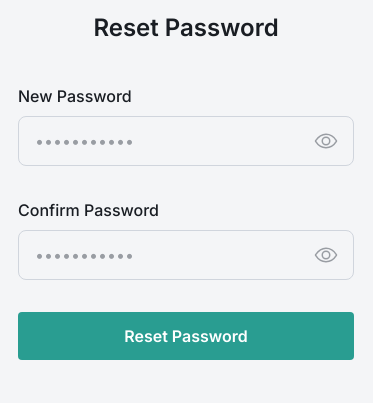
Test: ResetPassword › shows a text error when reset password error includes password
Type "1234" into the password field labelled "New Password" at (186, 141), box x1=18 y1=116 x2=354 y2=166
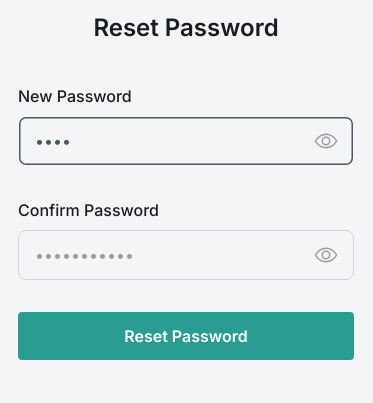
Type "1234" into the password field labelled "Confirm Password" at (186, 255), box x1=18 y1=230 x2=354 y2=280
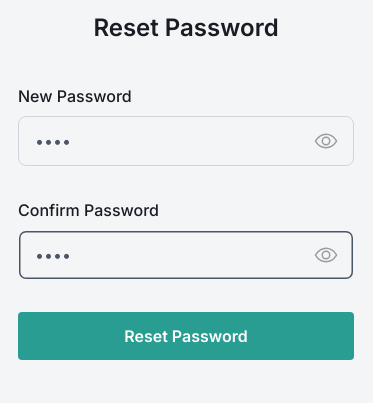
Click the button "Reset Password" at (186, 336), box x1=18 y1=312 x2=354 y2=360
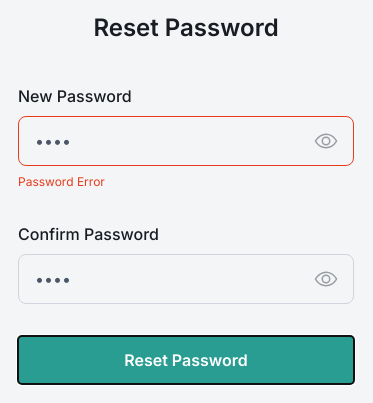
Result: the text "Password Error" is shown at x1=18 y1=174 x2=105 y2=189
